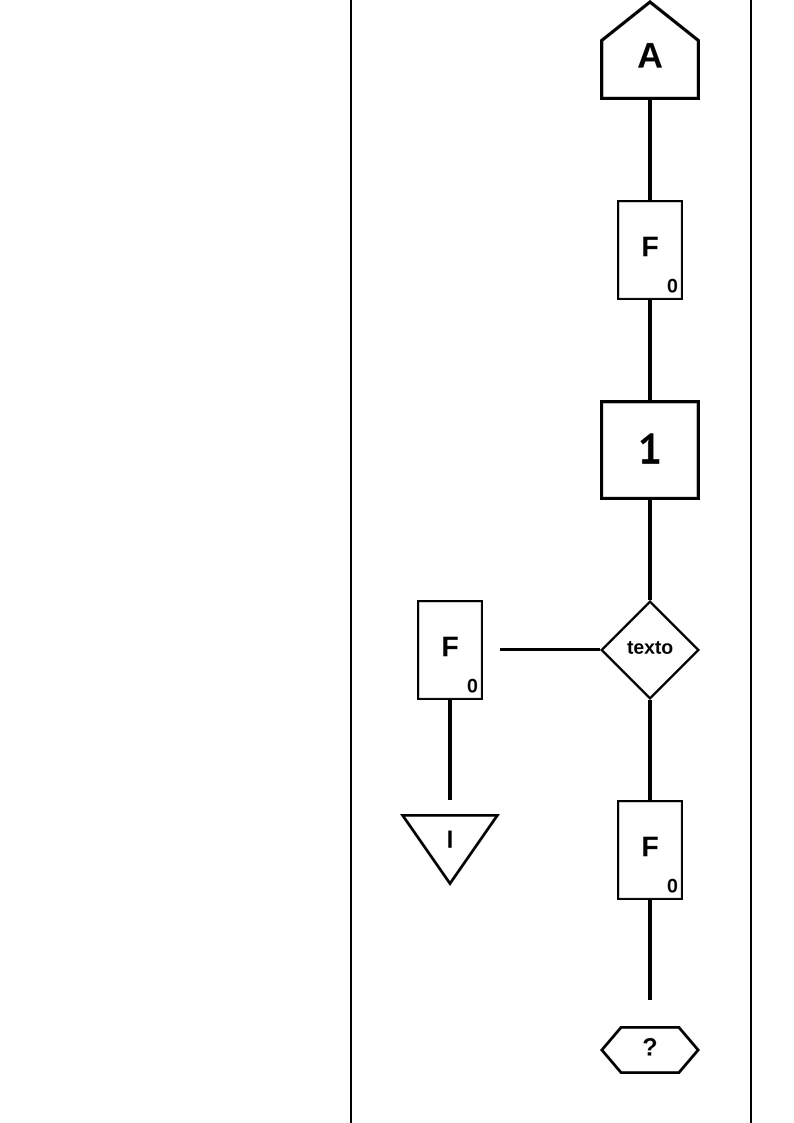archivoTransitorio: (400, 814, 500, 886)
conector_reanudacionCorte: (600, 0, 700, 100)
control: (600, 400, 700, 500)
decision: (600, 600, 700, 700)
documento: (617, 200, 683, 300), (617, 800, 683, 900), (417, 600, 483, 700)
procesoNoRelevado: (600, 1026, 700, 1074)
trasladoDeInformacion_horizontal: (500, 628, 600, 671)
trasladoDeInformacion_vertical: (628, 100, 672, 200), (628, 300, 672, 400), (628, 500, 672, 600), (628, 700, 672, 800), (628, 900, 672, 1000), (428, 700, 472, 800)
